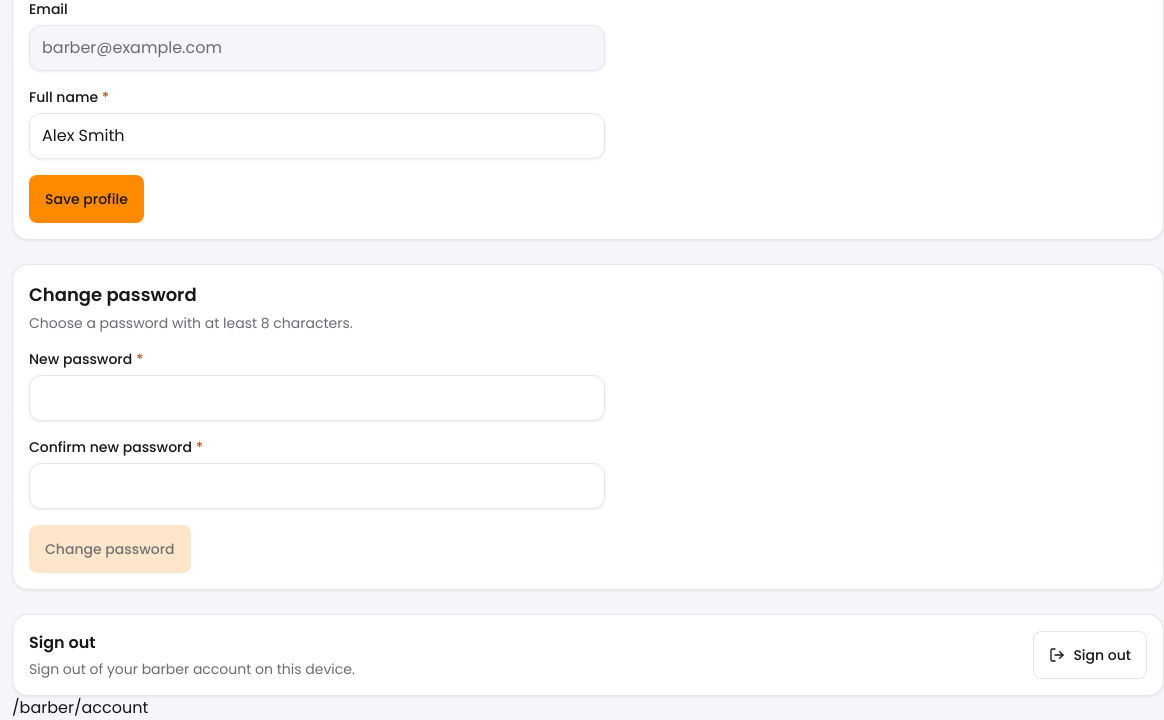
Scenario: BarberAccountPage › shows a sign-out action and redirects to login after signing out
(page scrolled)
Click the button "Sign out".
click(1090, 655)  # box [1033,631,1147,679]
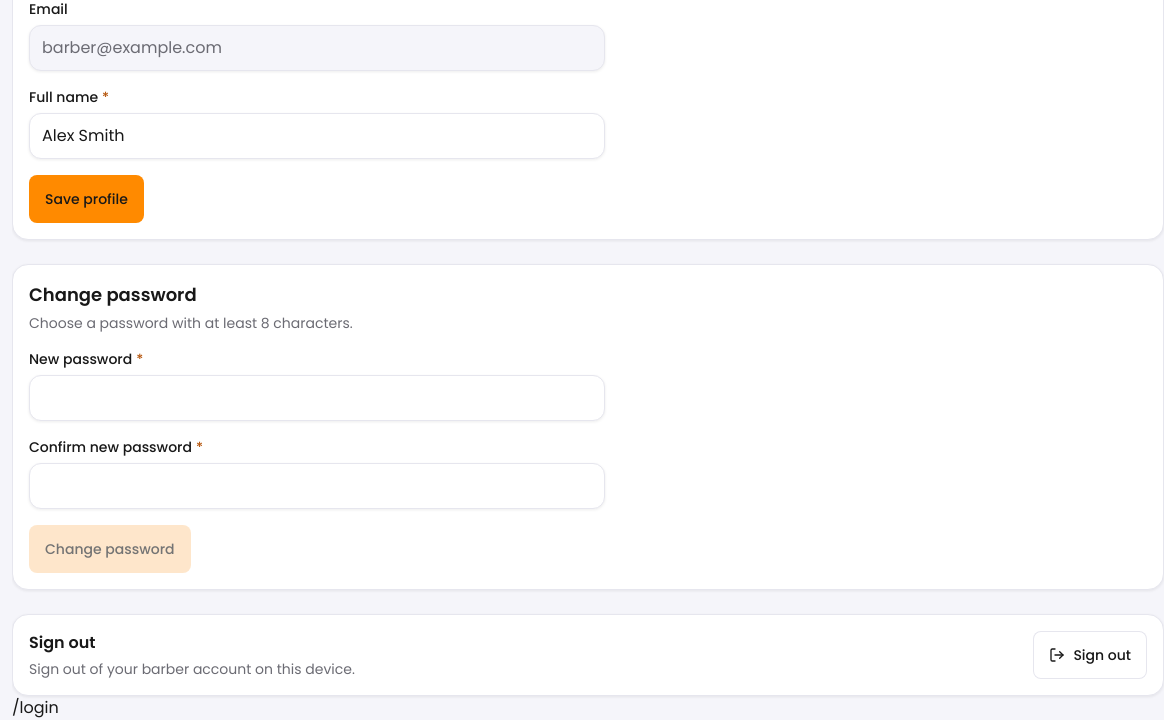
Check: the text named "Current path" reads "/login", box [12,696,59,719]
